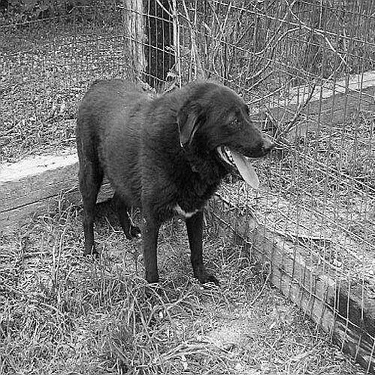dog: (35, 63, 277, 301)
